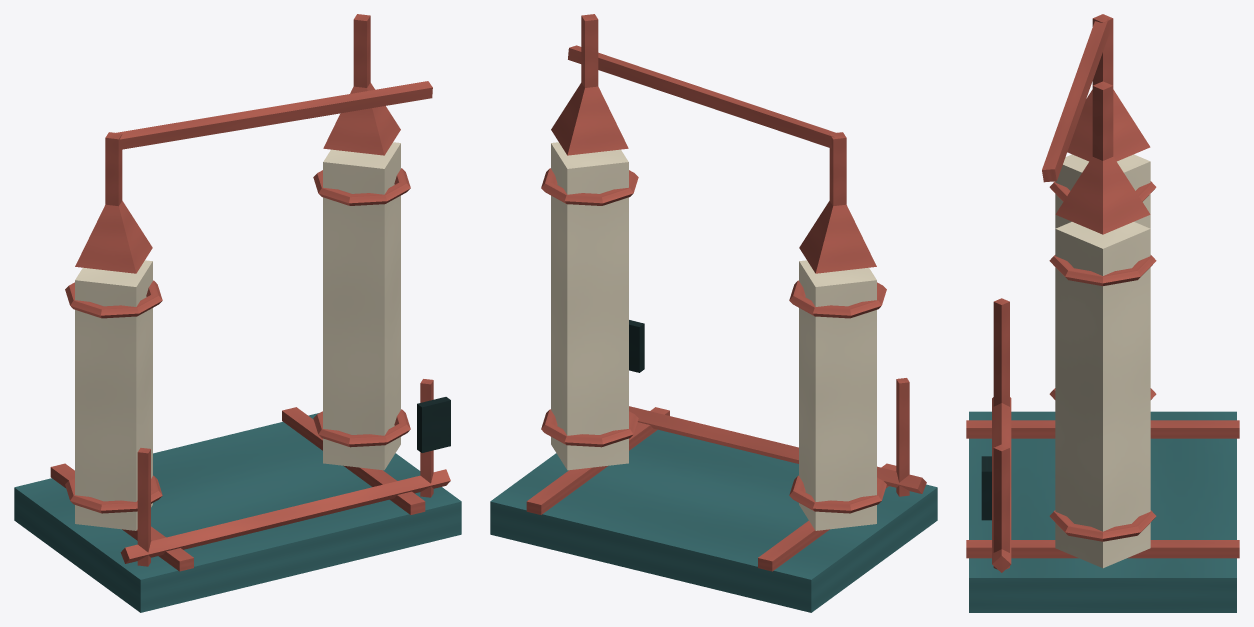
Rendered from atlas100-s034-a01.lod2.glb.
3 views of the same model, side by side, from view 1: azimuth 30°, elevation 25°; view 2: azimuth 150°, elevation 25°; view 3: azimuth 270°, elevation 25° (orthographic). The views are drawn at different scales.
Parts seen in each view (by area): view 1: atlas100-s034-a01:part-000, atlas100-s034-a01:part-010, atlas100-s034-a01:part-003, atlas100-s034-a01:part-009, atlas100-s034-a01:part-021, atlas100-s034-a01:part-007, atlas100-s034-a01:part-014, atlas100-s034-a01:part-002, atlas100-s034-a01:part-020, atlas100-s034-a01:part-017, atlas100-s034-a01:part-005, atlas100-s034-a01:part-011 (+6 smaller); view 2: atlas100-s034-a01:part-000, atlas100-s034-a01:part-010, atlas100-s034-a01:part-003, atlas100-s034-a01:part-009, atlas100-s034-a01:part-021, atlas100-s034-a01:part-014, atlas100-s034-a01:part-007, atlas100-s034-a01:part-002, atlas100-s034-a01:part-017, atlas100-s034-a01:part-001, atlas100-s034-a01:part-004, atlas100-s034-a01:part-005 (+5 smaller); view 3: atlas100-s034-a01:part-000, atlas100-s034-a01:part-010, atlas100-s034-a01:part-014, atlas100-s034-a01:part-002, atlas100-s034-a01:part-009, atlas100-s034-a01:part-001, atlas100-s034-a01:part-007, atlas100-s034-a01:part-003, atlas100-s034-a01:part-019, atlas100-s034-a01:part-017, atlas100-s034-a01:part-015, atlas100-s034-a01:part-021 (+5 smaller).
Boxes of the visible parts, x1=… form: atlas100-s034-a01:part-000: x1=14, y1=413, x2=461, y2=612; atlas100-s034-a01:part-010: x1=323, y1=142, x2=400, y2=470; atlas100-s034-a01:part-003: x1=75, y1=260, x2=152, y2=530; atlas100-s034-a01:part-009: x1=112, y1=81, x2=432, y2=149; atlas100-s034-a01:part-021: x1=120, y1=469, x2=450, y2=563; atlas100-s034-a01:part-007: x1=75, y1=201, x2=152, y2=273; atlas100-s034-a01:part-014: x1=323, y1=82, x2=400, y2=155; atlas100-s034-a01:part-002: x1=282, y1=407, x2=425, y2=514; atlas100-s034-a01:part-020: x1=417, y1=397, x2=450, y2=452; atlas100-s034-a01:part-017: x1=137, y1=448, x2=150, y2=566; atlas100-s034-a01:part-005: x1=65, y1=280, x2=162, y2=318; atlas100-s034-a01:part-011: x1=313, y1=409, x2=410, y2=447; atlas100-s034-a01:part-000: x1=490, y1=429, x2=937, y2=612; atlas100-s034-a01:part-010: x1=551, y1=142, x2=628, y2=470; atlas100-s034-a01:part-003: x1=799, y1=260, x2=876, y2=530; atlas100-s034-a01:part-009: x1=568, y1=45, x2=835, y2=148; atlas100-s034-a01:part-021: x1=629, y1=406, x2=926, y2=493; atlas100-s034-a01:part-014: x1=551, y1=82, x2=628, y2=155; atlas100-s034-a01:part-007: x1=799, y1=201, x2=876, y2=273; atlas100-s034-a01:part-002: x1=526, y1=407, x2=669, y2=514; atlas100-s034-a01:part-017: x1=896, y1=378, x2=909, y2=496; atlas100-s034-a01:part-001: x1=758, y1=463, x2=896, y2=571; atlas100-s034-a01:part-004: x1=789, y1=475, x2=886, y2=513; atlas100-s034-a01:part-005: x1=789, y1=280, x2=886, y2=318; atlas100-s034-a01:part-000: x1=969, y1=411, x2=1236, y2=612; atlas100-s034-a01:part-010: x1=1055, y1=222, x2=1150, y2=568; atlas100-s034-a01:part-014: x1=1055, y1=156, x2=1150, y2=234; atlas100-s034-a01:part-002: x1=966, y1=540, x2=1239, y2=558; atlas100-s034-a01:part-009: x1=1042, y1=18, x2=1109, y2=182; atlas100-s034-a01:part-001: x1=966, y1=420, x2=1239, y2=438; atlas100-s034-a01:part-007: x1=1067, y1=89, x2=1150, y2=161; atlas100-s034-a01:part-003: x1=1055, y1=154, x2=1150, y2=228; atlas100-s034-a01:part-019: x1=993, y1=444, x2=1009, y2=569; atlas100-s034-a01:part-017: x1=993, y1=298, x2=1009, y2=406; atlas100-s034-a01:part-015: x1=1092, y1=81, x2=1113, y2=160; atlas100-s034-a01:part-021: x1=992, y1=397, x2=1011, y2=572.
Size of the model in its own units: 2.76 by 3.77 by 1.84.
Materials: 4 (4 with a texture image).
